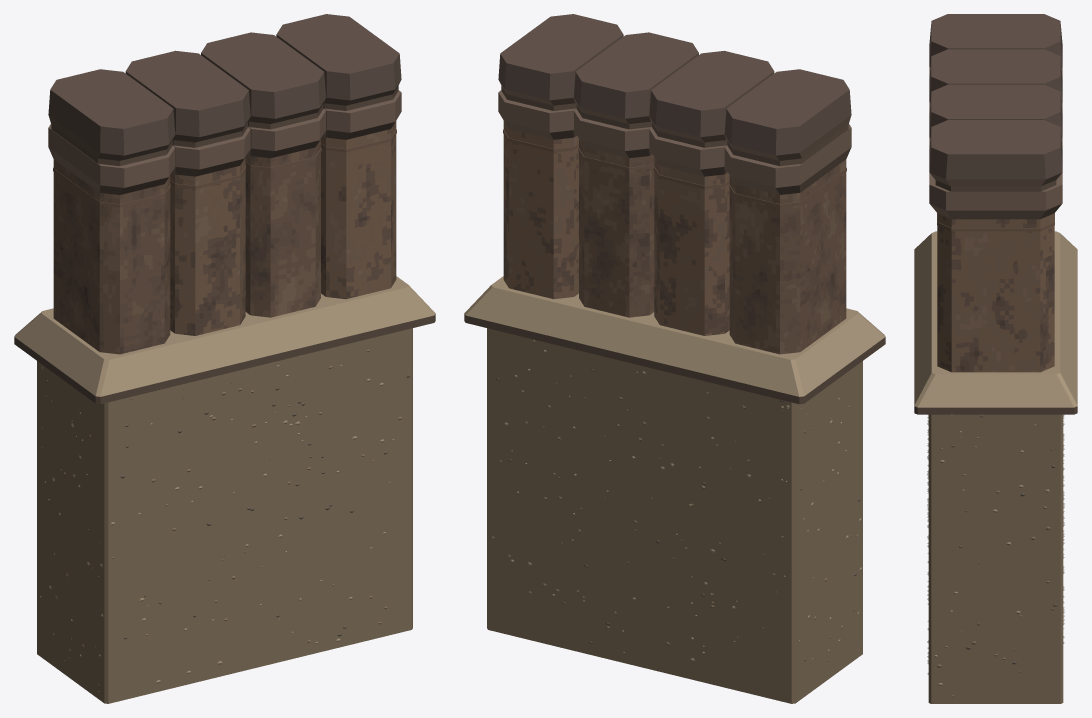
The model's file is changning-soong-hongqiao-four-chimney-shafts-raw.glb.
3 renders of one model, left to right at view 1: azimuth 30°, elevation 25°; view 2: azimuth 150°, elevation 25°; view 3: azimuth 270°, elevation 25°, orthographic. The views are drawn at different scales.
Visible parts, largest first — view 1: 虹桥路宋氏花园住宅四联切角烟囱与叠帽; view 2: 虹桥路宋氏花园住宅四联切角烟囱与叠帽; view 3: 虹桥路宋氏花园住宅四联切角烟囱与叠帽.
Part boxes in pixels (bbox=[...]): 虹桥路宋氏花园住宅四联切角烟囱与叠帽: bbox=[14, 14, 435, 703]; 虹桥路宋氏花园住宅四联切角烟囱与叠帽: bbox=[464, 14, 885, 703]; 虹桥路宋氏花园住宅四联切角烟囱与叠帽: bbox=[914, 14, 1077, 703].
Bounding box in the file's own units: 1.4 × 2.24 × 0.606.
